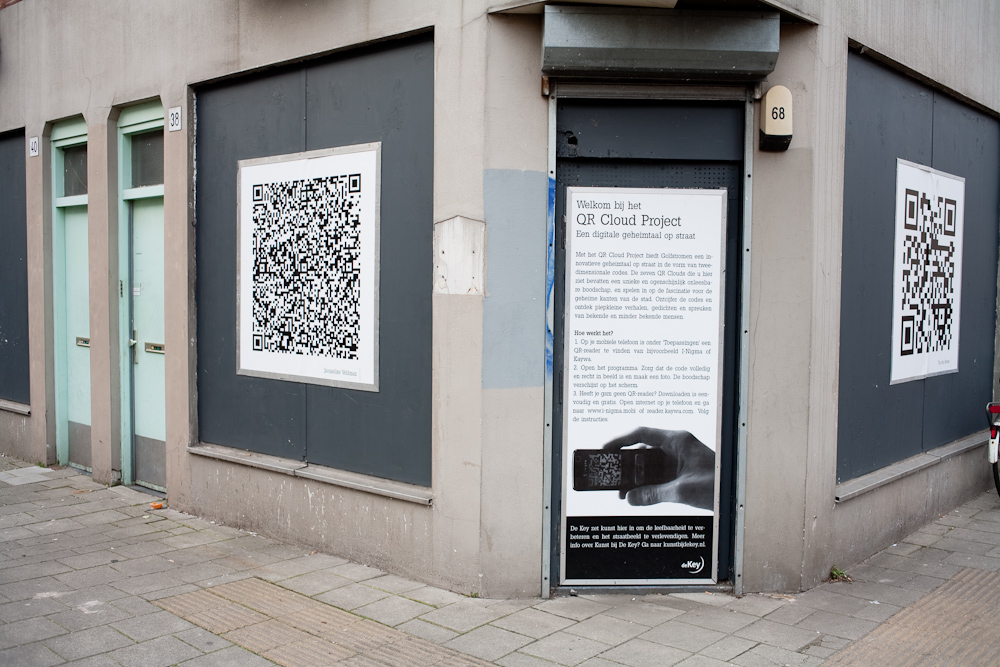QR-CODE: (252, 173, 360, 359), (900, 188, 956, 355), (589, 455, 620, 486)
